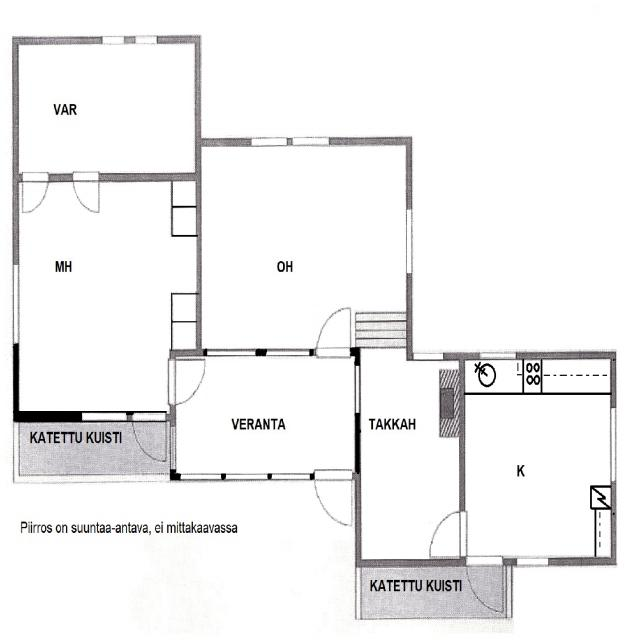door: (314, 473, 352, 530), (468, 559, 503, 615), (133, 411, 166, 466), (316, 304, 350, 356), (426, 512, 466, 556), (170, 360, 209, 405), (73, 172, 99, 216), (22, 172, 48, 215)
